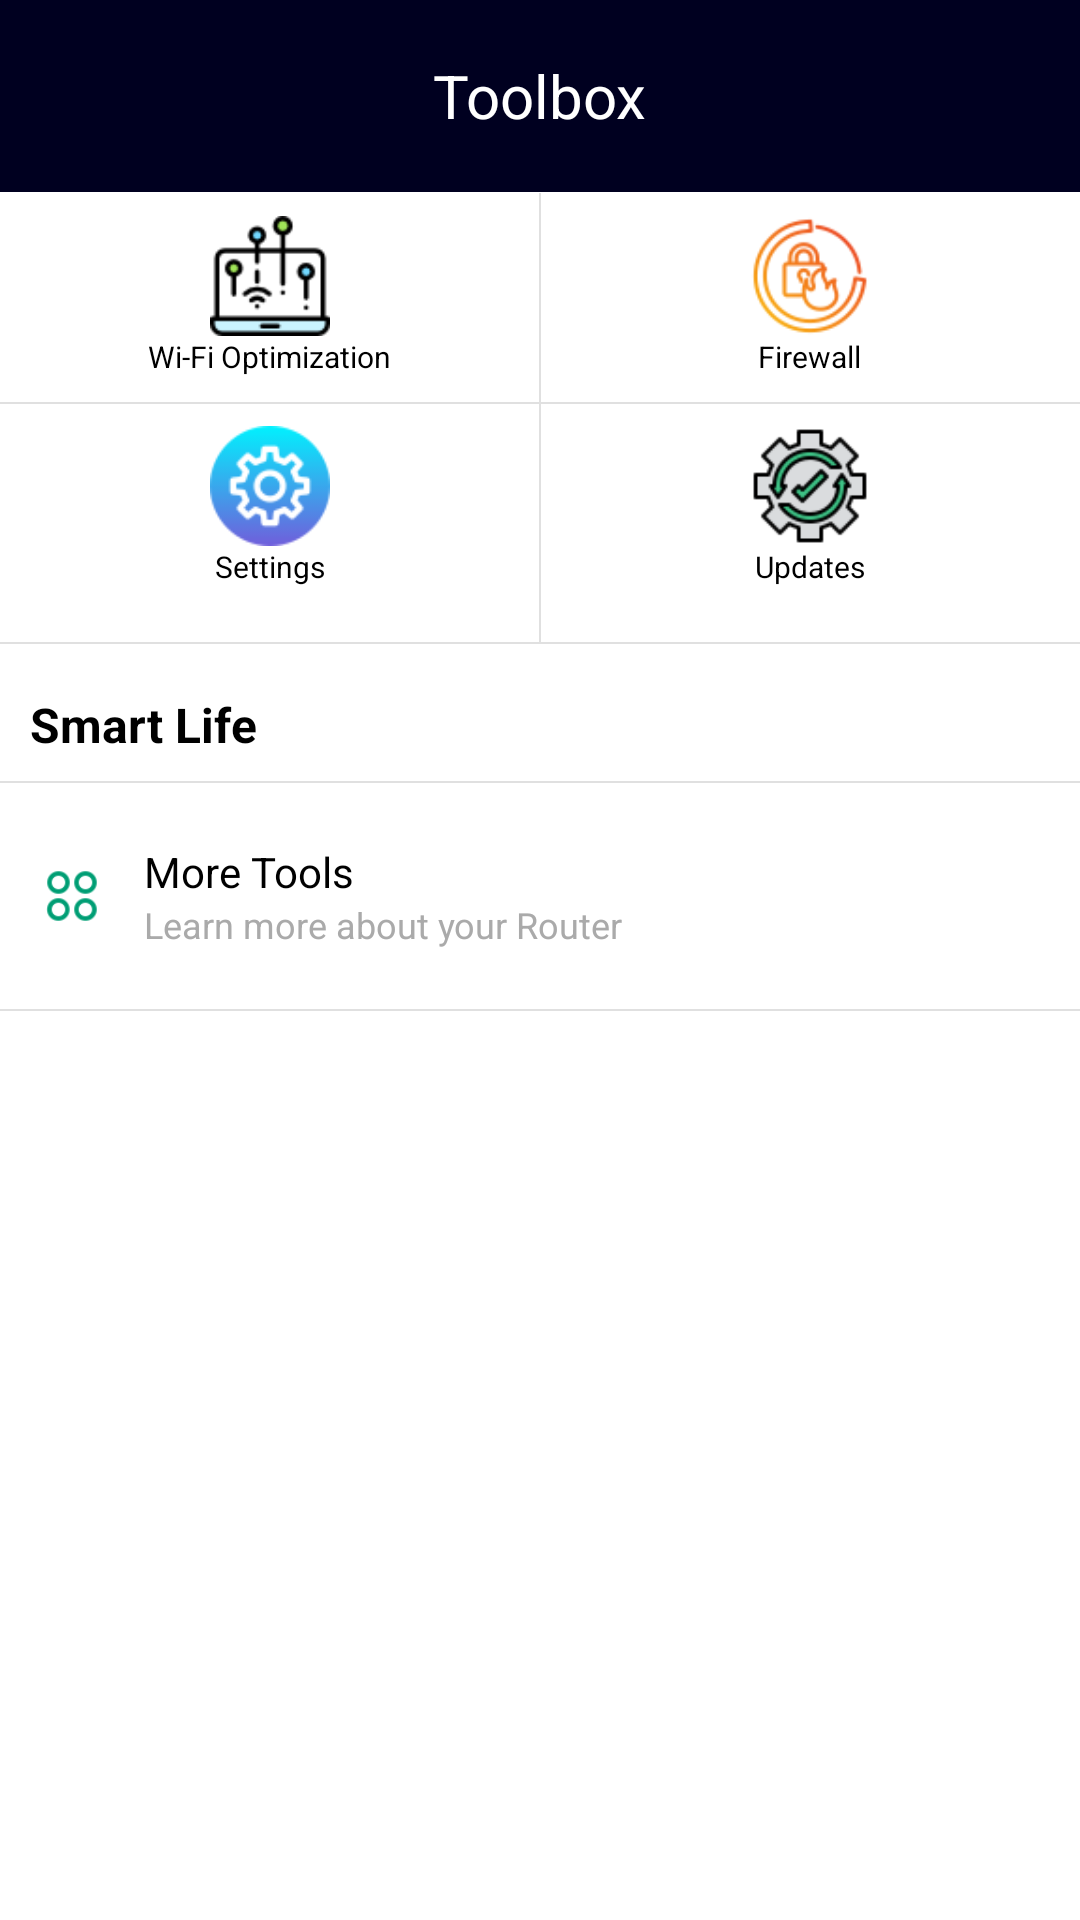

Named icons in this screenshot (1080 x 1920) and their bounding boxes, (x1, y1, x2, y2):
four circle: (47, 871, 97, 921)
